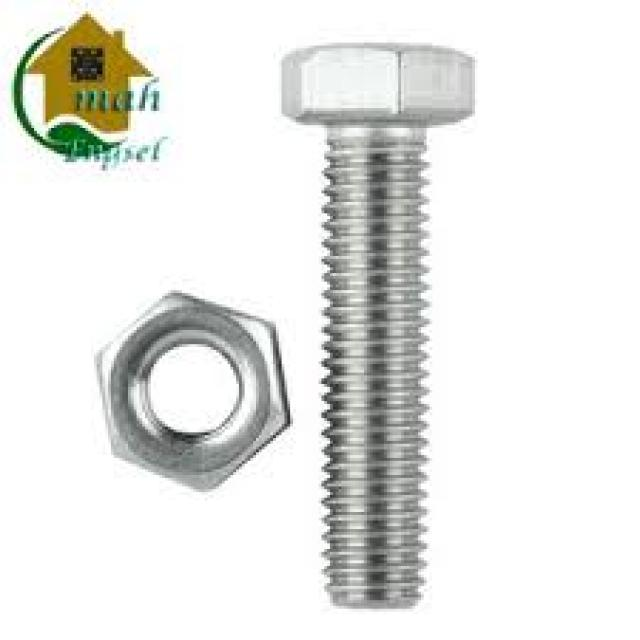Turning: (271, 19, 497, 624), (64, 259, 304, 529)
